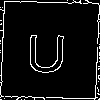U: (24, 25, 69, 73)
